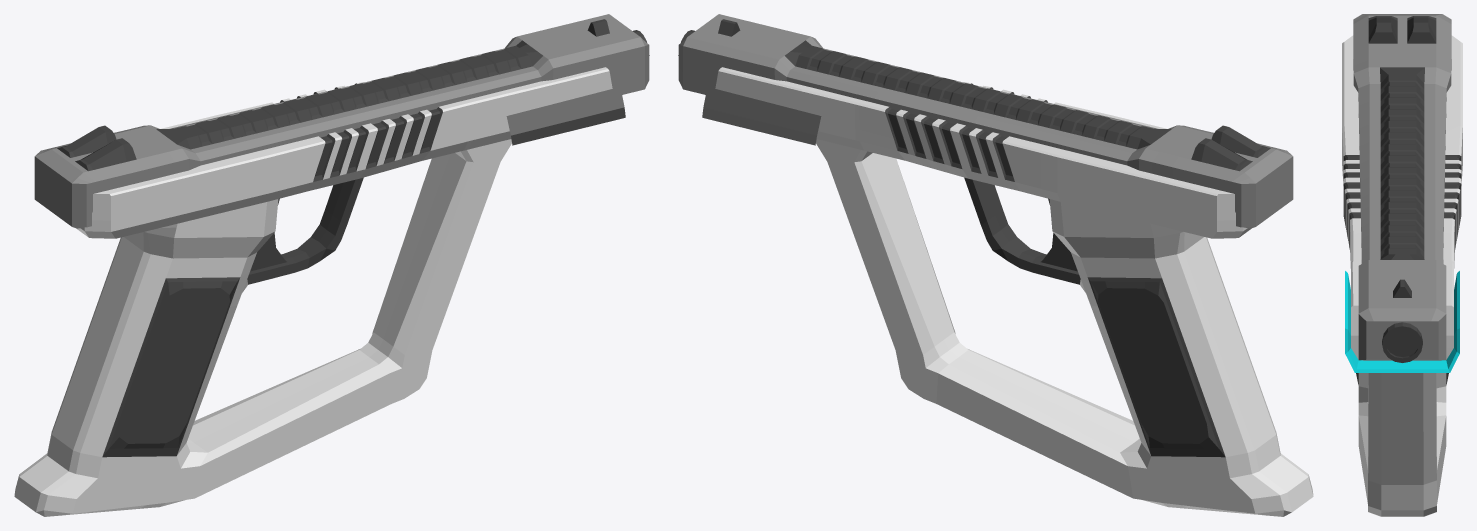
Rendered from Pistol.fbx.
3 renders of one model, left to right at view 1: azimuth 30°, elevation 25°; view 2: azimuth 150°, elevation 25°; view 3: azimuth 270°, elevation 25°, orthographic. The views are drawn at different scales.
Parts seen in each view (by area): view 1: Pistol; view 2: Pistol; view 3: Pistol.
Boxes of the visible parts, left/top/right/bottom form: Pistol: left=14, top=14, right=649, bottom=516; Pistol: left=678, top=14, right=1313, bottom=516; Pistol: left=1342, top=14, right=1462, bottom=516.
Bounding box in the file's own units: 50.74 × 29.12 × 8.04.
